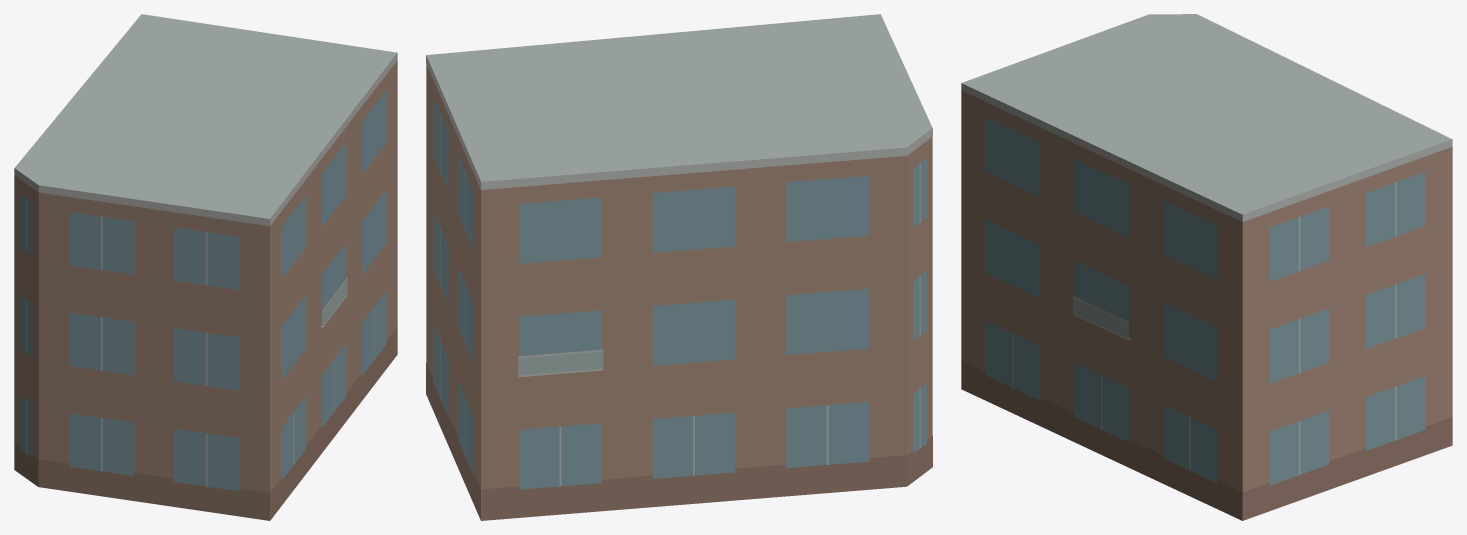
The model's file is survey-upis-32928155.glb.
3 renders of one model, left to right at view 1: azimuth 30°, elevation 25°; view 2: azimuth 150°, elevation 25°; view 3: azimuth 270°, elevation 25°, orthographic. The views are drawn at different scales.
Parts seen in each view (by area): view 1: survey-upis-32928155.tmp; view 2: survey-upis-32928155.tmp; view 3: survey-upis-32928155.tmp.
Part boxes in pixels (<box>): survey-upis-32928155.tmp: <box>14,14,397,520</box>; survey-upis-32928155.tmp: <box>426,14,932,520</box>; survey-upis-32928155.tmp: <box>961,14,1452,520</box>.
Bounding box in the file's own units: 14.35 × 10.2 × 14.84.
